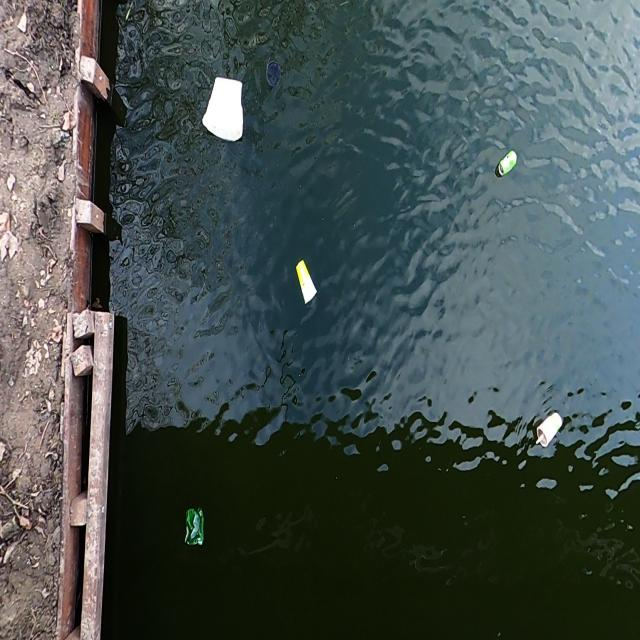Autre plastique: (199, 74, 248, 148)
Non plastique: (293, 255, 319, 312), (533, 411, 564, 454), (494, 147, 519, 180)
Sac plastique: (179, 504, 209, 551)
